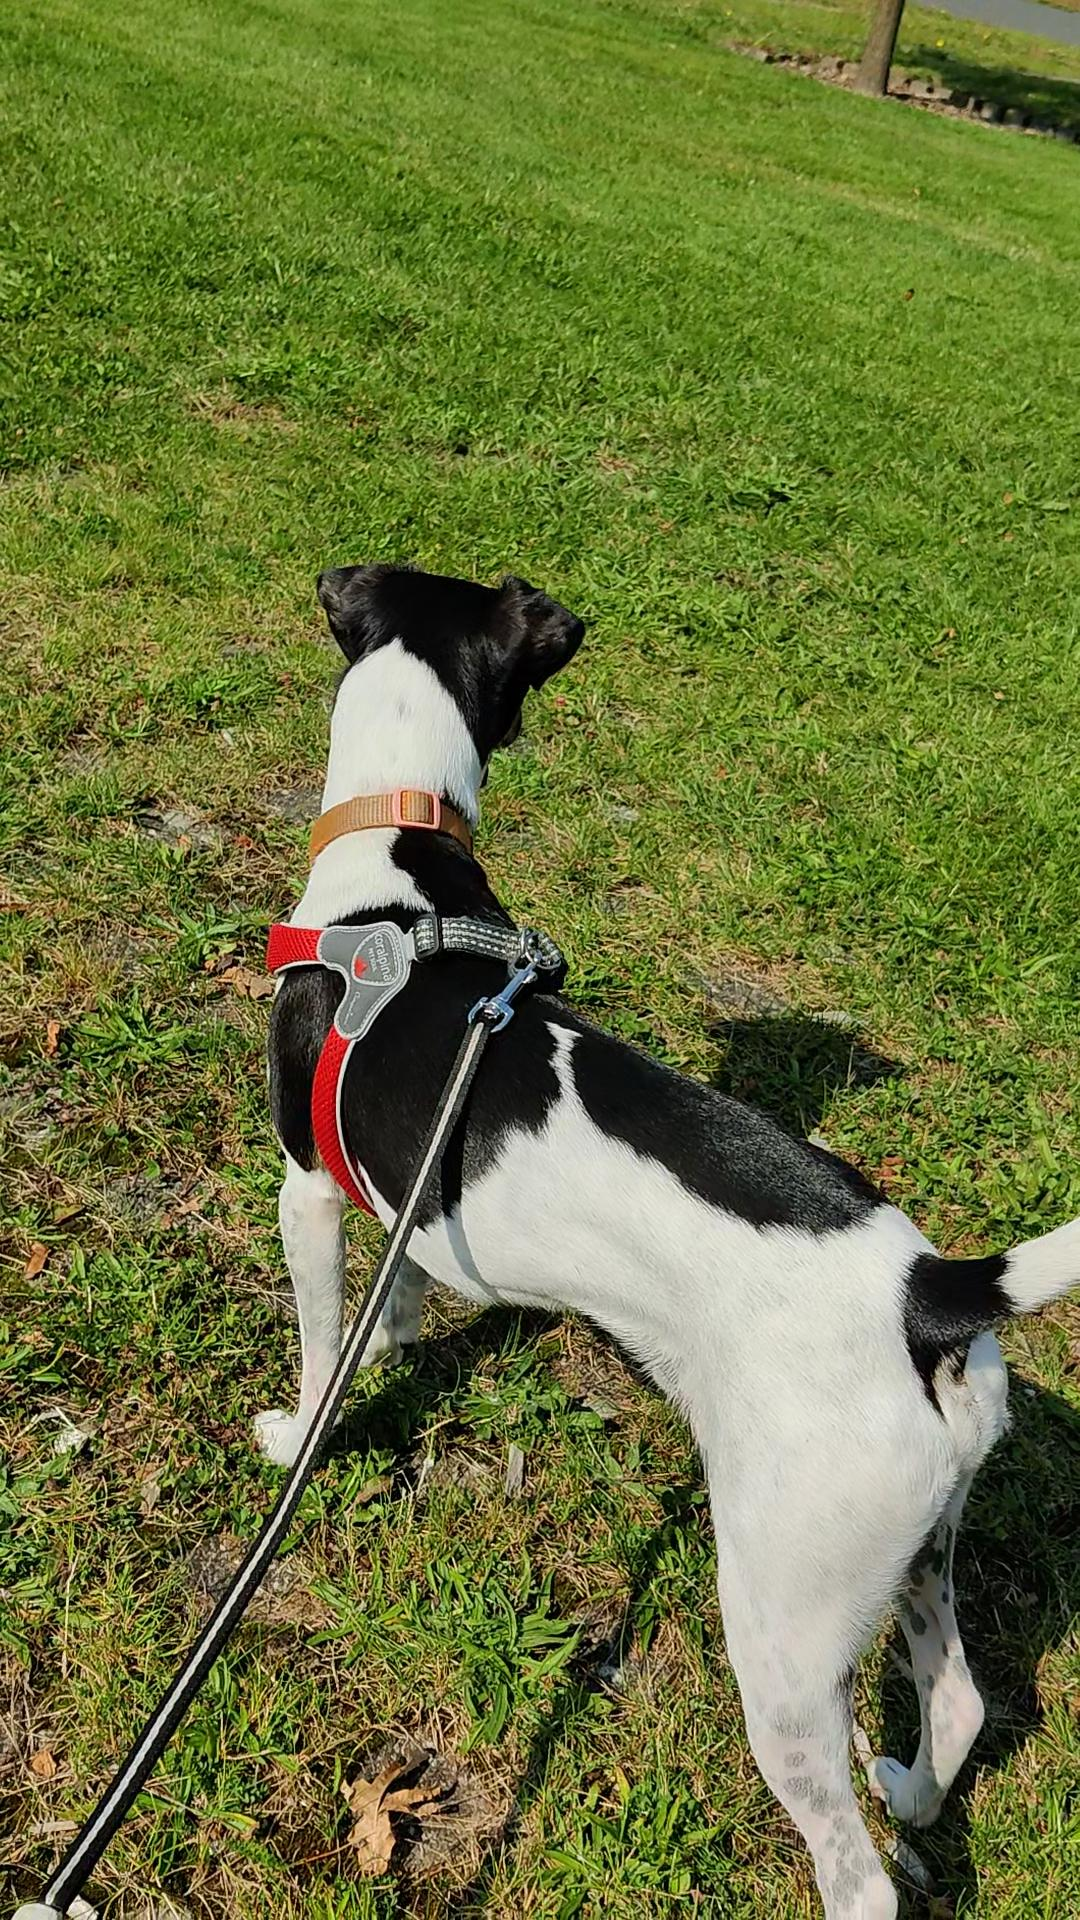Dog: (240, 559, 1079, 1919)
